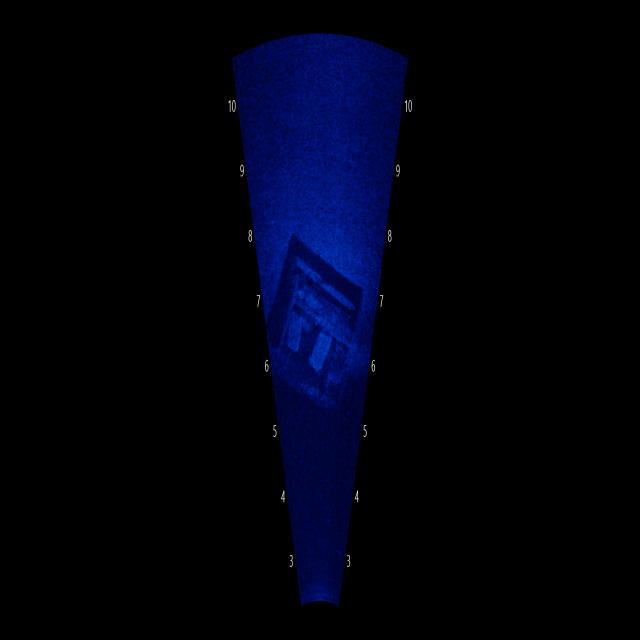square: (264, 228, 369, 432)
